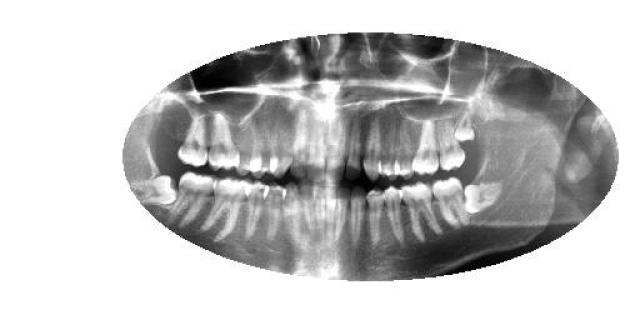Restorations: (462, 178, 512, 212), (128, 174, 176, 206), (455, 111, 475, 144)
